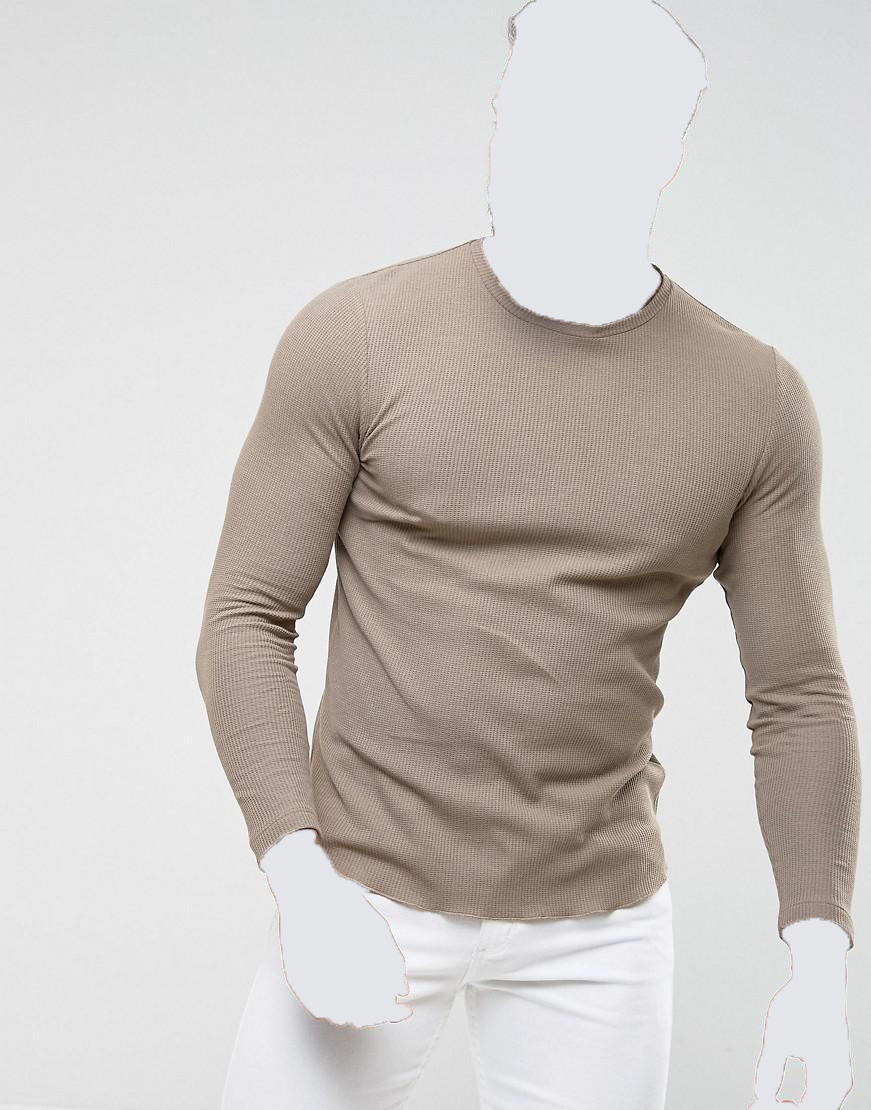teeshirt: (190, 234, 866, 973)
